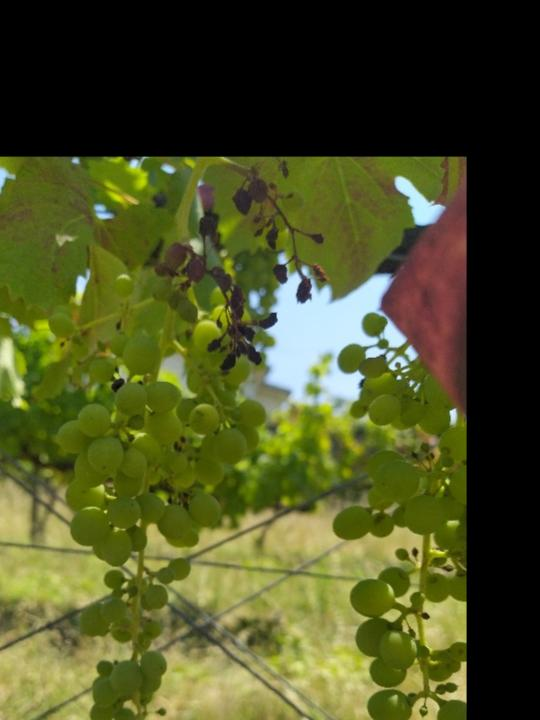grape: (34, 368, 268, 720), (333, 310, 467, 720), (154, 162, 332, 376)
